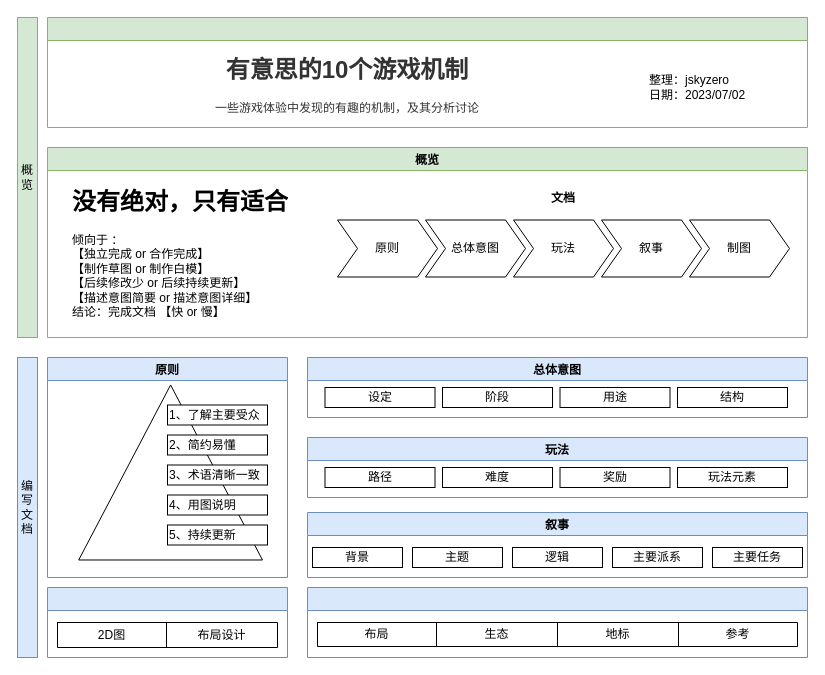
Some shapes in this 825 by 675 pixel diagram are drawn without their labels. The box of each missing label's shape, as (x1, y1, x2, y2) in pixels:
标题: (46, 16, 808, 128)
细分预概念: (306, 586, 808, 658)
绘图: (46, 586, 288, 658)
